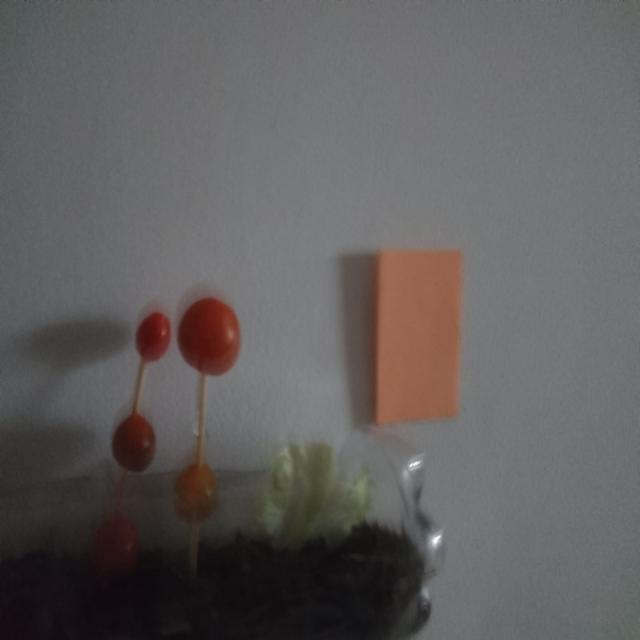card: (375, 250, 463, 423)
fruit_maturation: (175, 463, 218, 523)
fully_grown: (177, 297, 240, 375), (92, 514, 139, 577), (112, 413, 155, 472), (136, 312, 170, 362)
